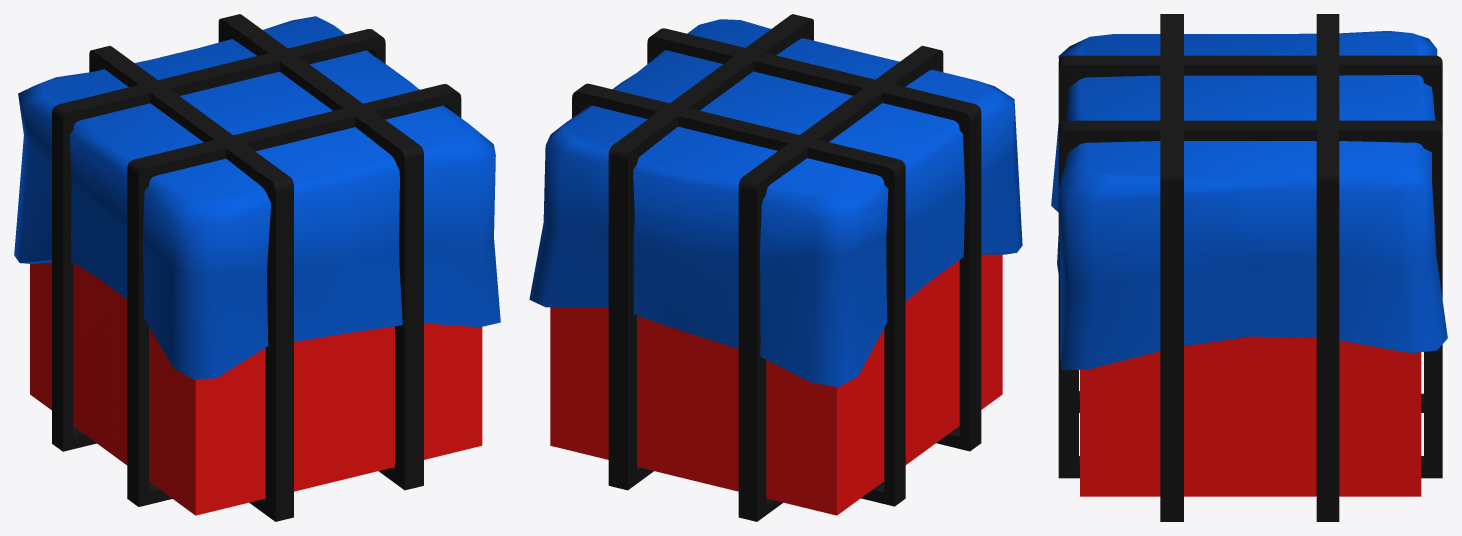
File: Drop_box_LP.fbx
3 views of the same model, side by side, from view 1: azimuth 30°, elevation 25°; view 2: azimuth 150°, elevation 25°; view 3: azimuth 270°, elevation 25° (orthographic). The views are drawn at different scales.
Visible parts, largest first — view 1: Drop_box; view 2: Drop_box; view 3: Drop_box.
Part boxes in pixels (left/top/right/bottom): Drop_box: left=14, top=14, right=500, bottom=521; Drop_box: left=529, top=14, right=1022, bottom=521; Drop_box: left=1051, top=14, right=1447, bottom=521.
Size of the model in its own units: 179 by 177 by 183.
